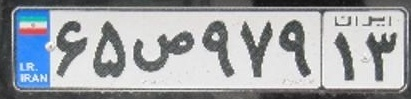character: (131, 19, 194, 83), (48, 17, 89, 80), (200, 14, 237, 79), (277, 15, 315, 78), (91, 18, 128, 81), (239, 12, 273, 79), (364, 27, 399, 84), (329, 28, 359, 82)
